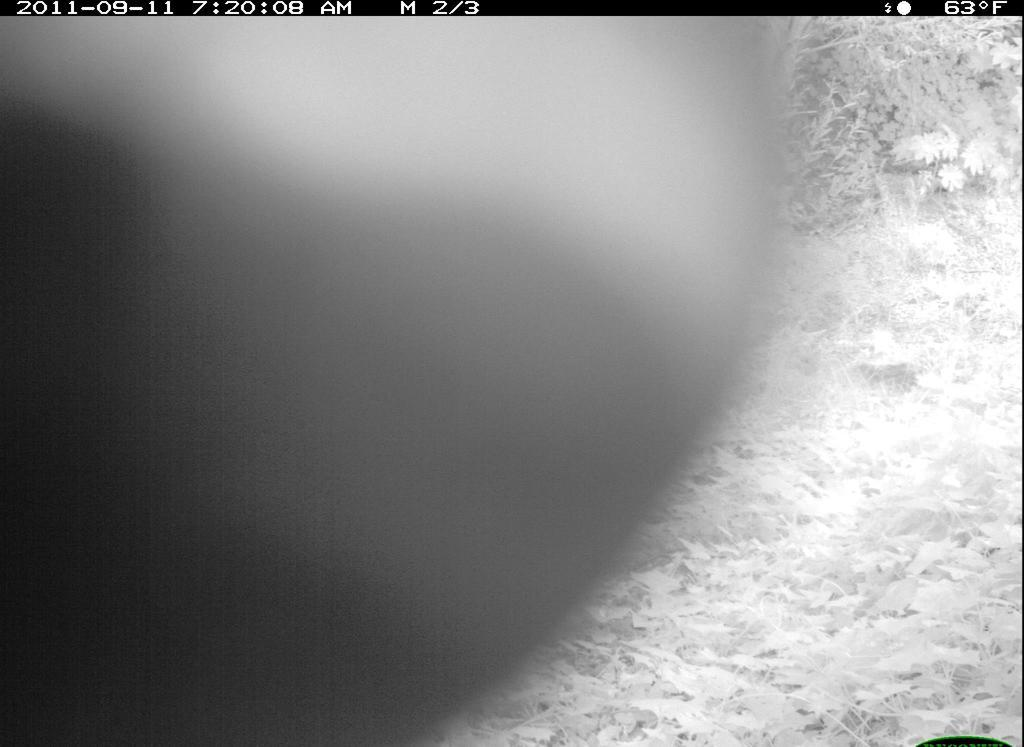squirrel: (3, 13, 815, 747)
